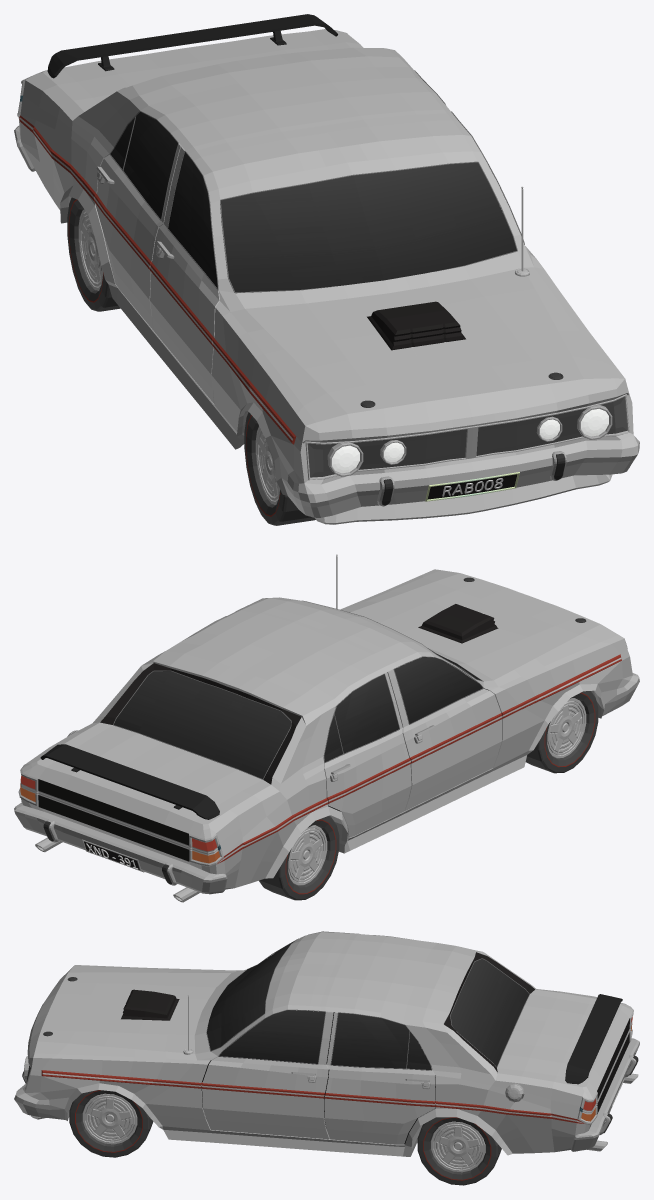
File: car_8.glb
The picture shows the model from 3 angles, top to bottom: view 1: azimuth 30°, elevation 25°; view 2: azimuth 150°, elevation 25°; view 3: azimuth 270°, elevation 25°; orthographic projection. The views are drawn at different scales.
Visible parts, largest first — view 1: Cube.030, Cube.033, Circle.053, Circle.052, Circle.056, Cube.031, Cube.034; view 2: Cube.030, Circle.052, Circle.053, Cube.033, Cube.031; view 3: Cube.030, Circle.057, Circle.058, Cube.033, Cube.031.
Part boxes in pixels (x1,y1,x2,y2): Cube.030: [14, 29, 639, 524]; Cube.033: [47, 14, 337, 78]; Circle.053: [244, 412, 315, 525]; Circle.052: [67, 197, 120, 311]; Circle.056: [327, 405, 612, 476]; Cube.031: [109, 70, 524, 293]; Cube.034: [377, 451, 566, 506]; Cube.030: [14, 569, 639, 894]; Circle.052: [259, 815, 339, 900]; Circle.053: [525, 691, 598, 773]; Cube.033: [40, 744, 219, 819]; Cube.031: [113, 598, 483, 779]; Cube.030: [14, 932, 639, 1156]; Circle.057: [417, 1117, 501, 1185]; Circle.058: [69, 1090, 153, 1157]; Cube.033: [565, 994, 622, 1084]; Cube.031: [206, 931, 529, 1070].
Size of the model in its own units: 1.51 by 0.7958 by 2.79.
Materials: 8 (5 with a texture image).
